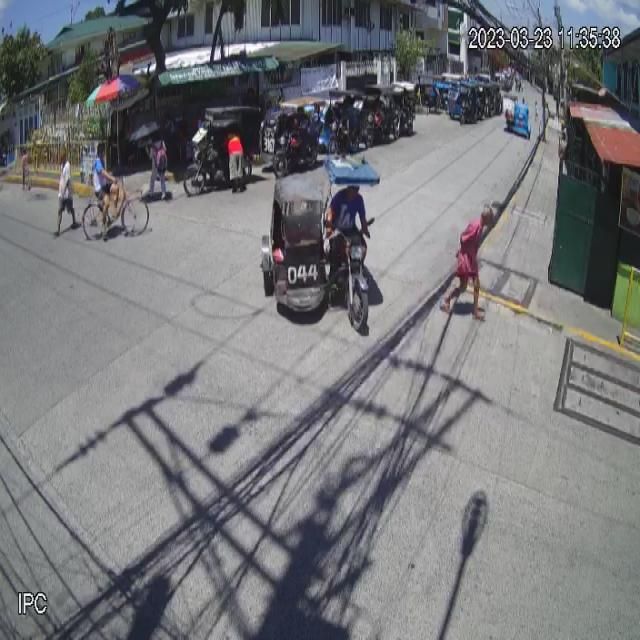Tricycle: (260, 153, 381, 334)
